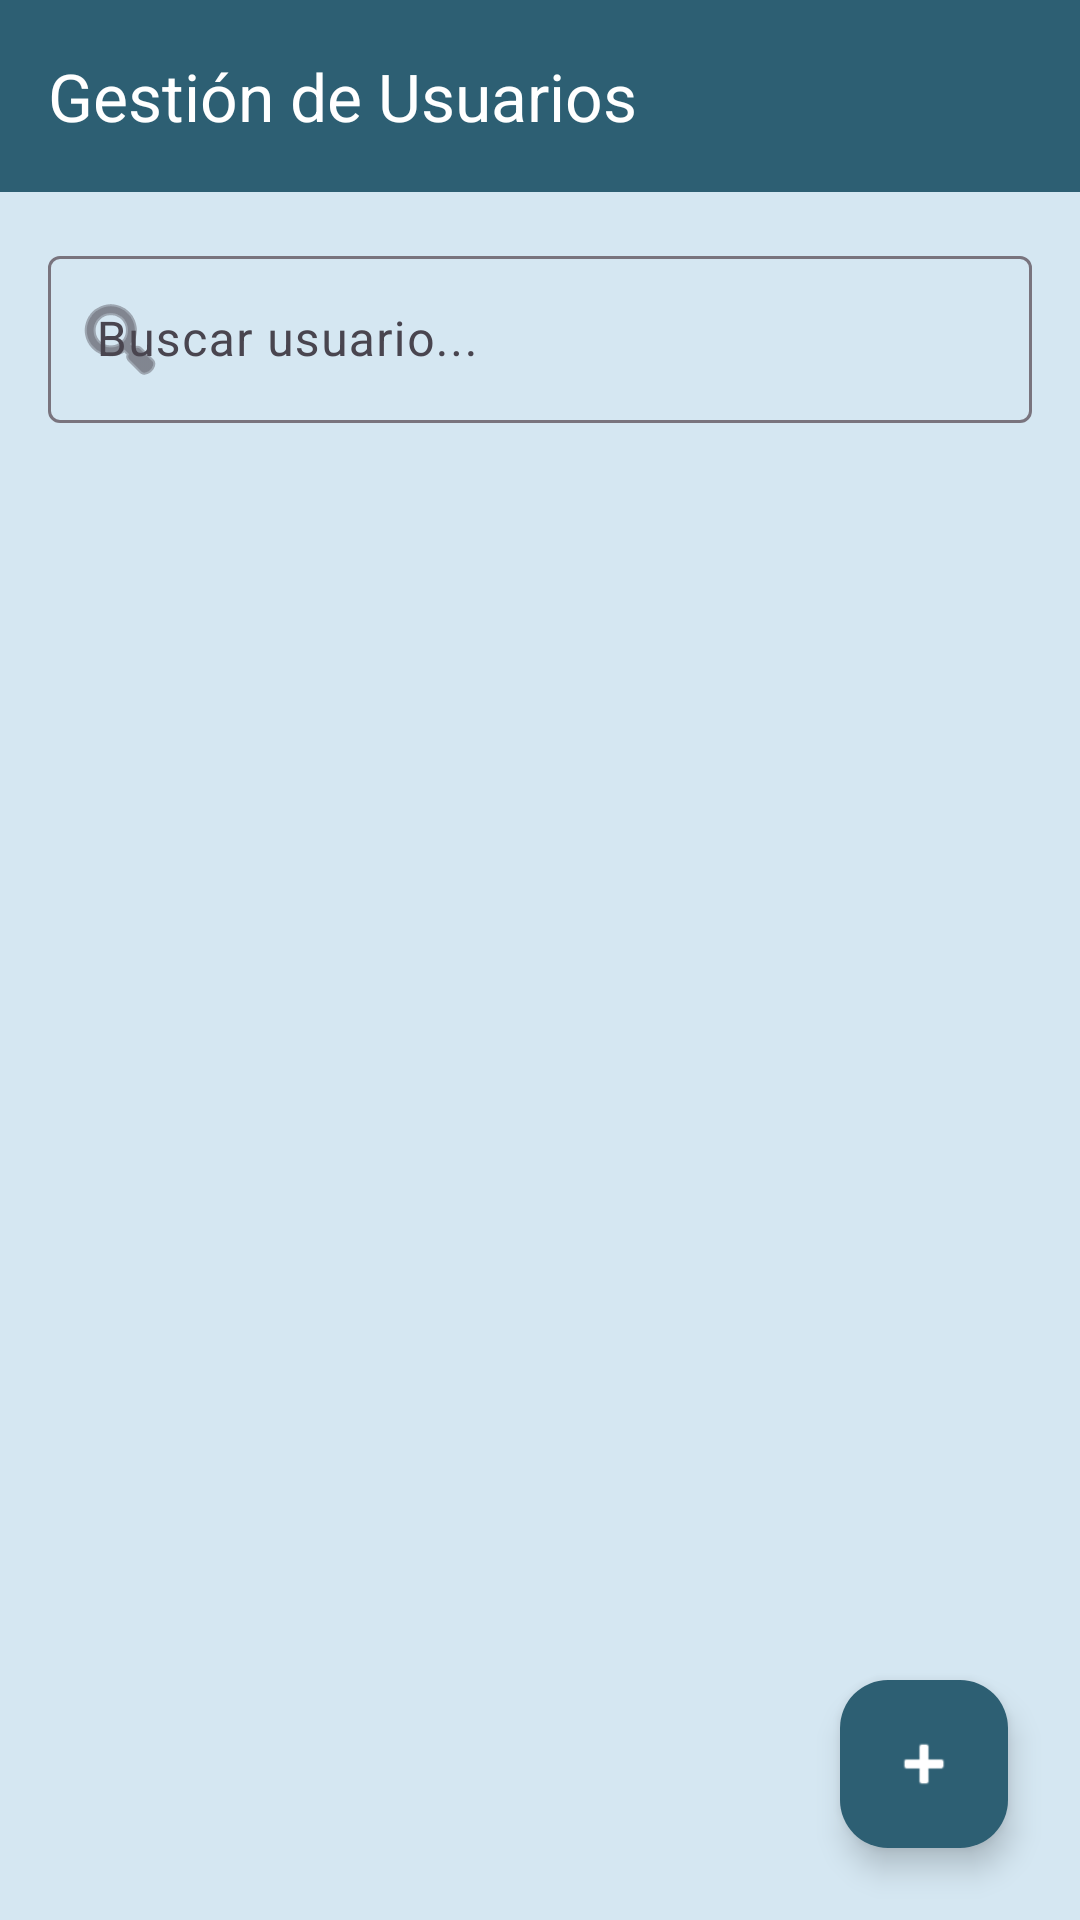

Icon bounding boxes for this 1080 × 1920 phone screenshot, format bbox(x1, y1, x2, y2):
Agregar usuario: bbox(840, 1680, 1008, 1848)
